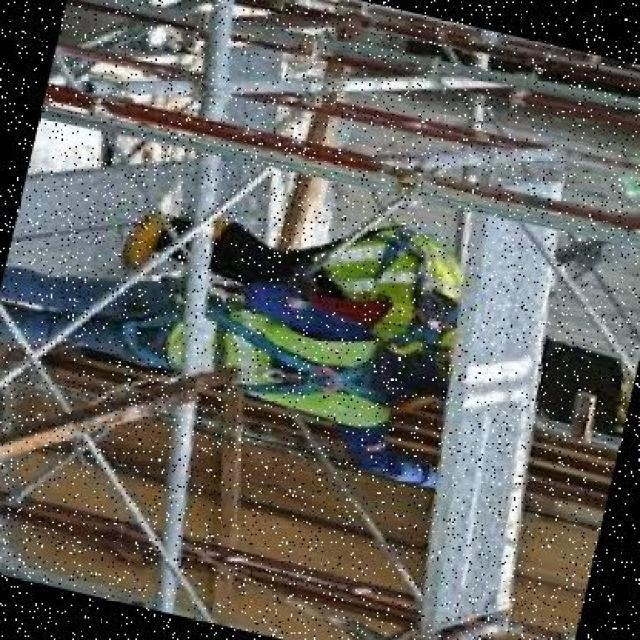Arnes_seguridad: (108, 276, 412, 436), (316, 213, 479, 362)
